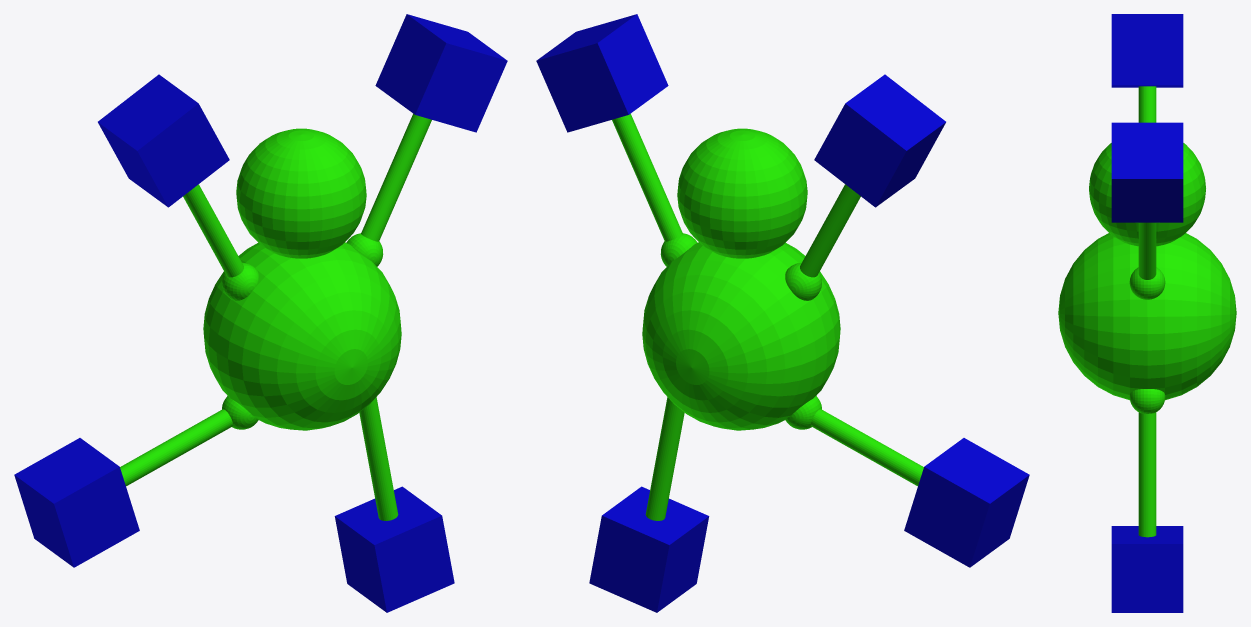
The model's file is testHierarchi3.fbx.
3 views of the same model, side by side, from view 1: azimuth 30°, elevation 25°; view 2: azimuth 150°, elevation 25°; view 3: azimuth 270°, elevation 25° (orthographic). The views are drawn at different scales.
Parts seen in each view (by area): view 1: body, Head, RightFoot, RightHand, LeftFoot, LeftHand, LeftArm, RightLeg, LeftLeg, RightArm, RightShoulder, LeftShoulder; view 2: body, Head, RightFoot, RightHand, LeftFoot, LeftHand, LeftArm, RightLeg, LeftLeg, RightArm, RightShoulder, LeftShoulder; view 3: body, LeftHand, LeftFoot, RightHand, Head, LeftLeg, LeftArm, LeftShoulder, LeftGroin, RightArm.
Boxes of the visible parts, bbox=[...] form: body: bbox=[203, 242, 401, 430]; Head: bbox=[236, 128, 366, 258]; RightFoot: bbox=[14, 438, 139, 567]; RightHand: bbox=[98, 74, 229, 207]; LeftFoot: bbox=[334, 486, 454, 612]; LeftHand: bbox=[375, 14, 507, 132]; LeftArm: bbox=[361, 113, 431, 241]; RightLeg: bbox=[120, 409, 232, 486]; LeftLeg: bbox=[359, 397, 398, 520]; RightArm: bbox=[183, 184, 243, 277]; RightShoulder: bbox=[222, 262, 258, 300]; LeftShoulder: bbox=[346, 233, 383, 266]; body: bbox=[642, 242, 840, 430]; Head: bbox=[677, 128, 807, 258]; RightFoot: bbox=[904, 438, 1029, 567]; RightHand: bbox=[814, 74, 945, 207]; LeftFoot: bbox=[589, 486, 709, 612]; LeftHand: bbox=[536, 14, 668, 132]; LeftArm: bbox=[612, 113, 682, 241]; RightLeg: bbox=[811, 409, 923, 486]; LeftLeg: bbox=[645, 397, 684, 520]; RightArm: bbox=[800, 184, 860, 277]; RightShoulder: bbox=[785, 262, 821, 300]; LeftShoulder: bbox=[660, 233, 697, 266]; body: bbox=[1058, 233, 1236, 400]; LeftHand: bbox=[1111, 122, 1183, 222]; LeftFoot: bbox=[1111, 526, 1183, 612]; RightHand: bbox=[1111, 14, 1183, 87]; Head: bbox=[1089, 143, 1205, 246]; LeftLeg: bbox=[1138, 412, 1156, 537]; LeftArm: bbox=[1138, 222, 1156, 279]; LeftShoulder: bbox=[1129, 267, 1165, 299]; LeftGroin: bbox=[1129, 389, 1165, 413]; RightArm: bbox=[1138, 86, 1156, 122].
Size of the model in its own units: 2.64 by 3.08 by 1.
